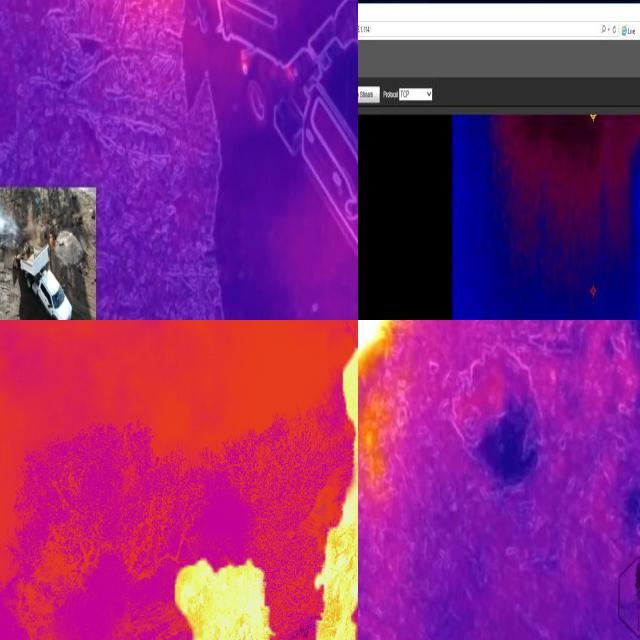fire: (316, 321, 359, 640), (172, 554, 278, 640), (359, 319, 398, 362)
